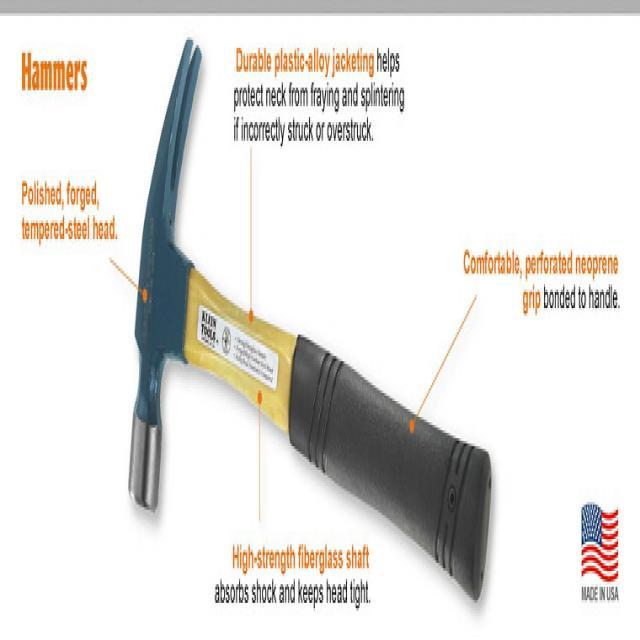hammer: (122, 21, 493, 632)
